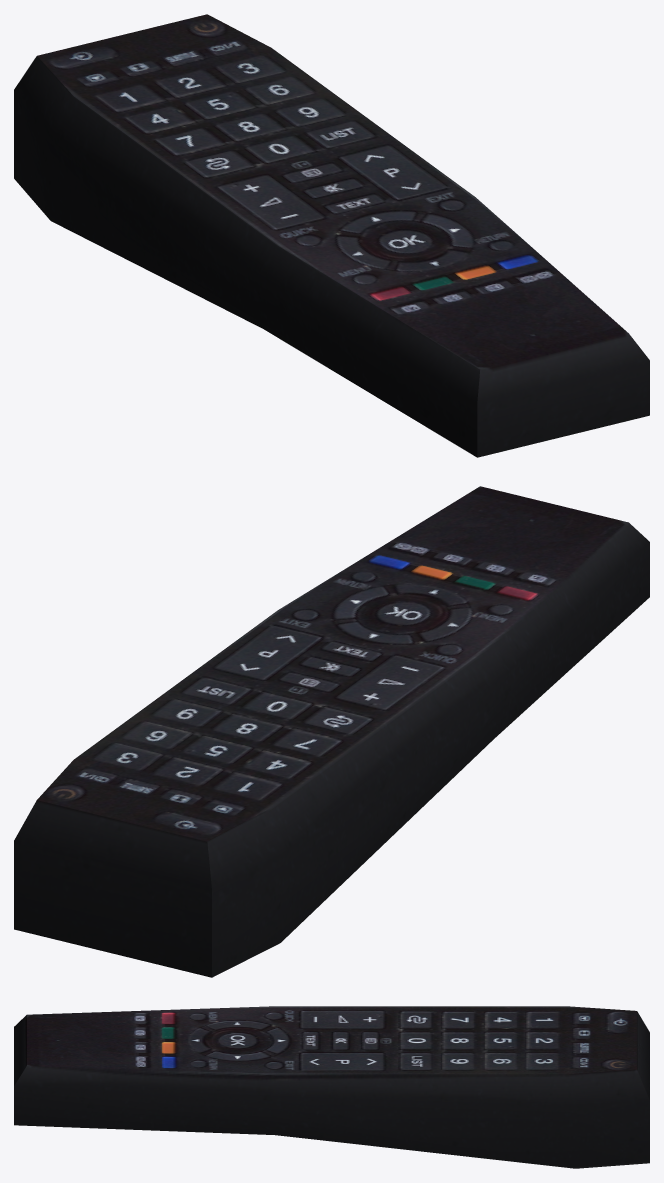
The model's file is Sun_0063_TV_remote.fbx.
3 renders of one model, top to bottom at view 1: azimuth 30°, elevation 25°; view 2: azimuth 150°, elevation 25°; view 3: azimuth 270°, elevation 25°, orthographic. The views are drawn at different scales.
Visible parts, largest first — view 1: Sun_0063_TV_remote; view 2: Sun_0063_TV_remote; view 3: Sun_0063_TV_remote.
Part boxes in pixels (box(x1,y1,x2,y2)): Sun_0063_TV_remote: box(14, 14, 649, 457); Sun_0063_TV_remote: box(14, 486, 649, 977); Sun_0063_TV_remote: box(14, 1006, 649, 1168).
Bounding box in the file's own units: 8.65 × 4.53 × 29.38.
